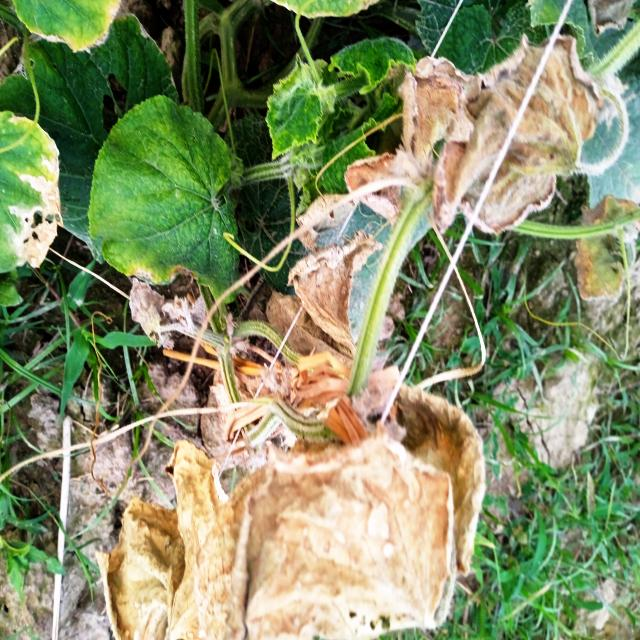Bacterial-Wilt: (91, 368, 487, 640), (424, 24, 605, 239), (265, 229, 378, 361)
